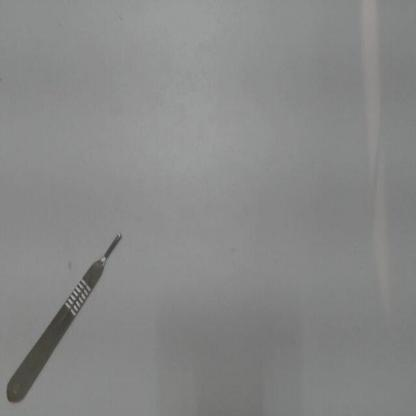No.3 BP Handle: (4, 225, 135, 409)
